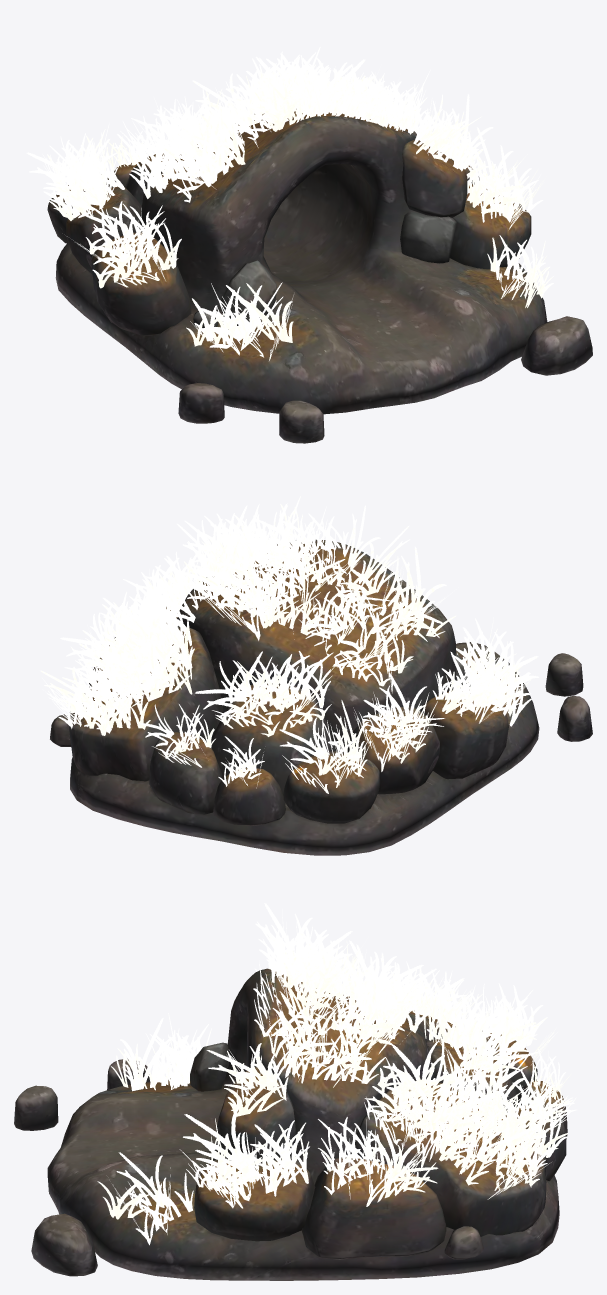
The picture shows the model from 3 angles, top to bottom: view 1: azimuth 30°, elevation 25°; view 2: azimuth 150°, elevation 25°; view 3: azimuth 270°, elevation 25°; orthographic projection. The views are drawn at different scales.
Parts seen in each view (by area): view 1: SM_Kebbit_Burrow_01v1_LOD0; view 2: SM_Kebbit_Burrow_01v1_LOD0; view 3: SM_Kebbit_Burrow_01v1_LOD0.
Part boxes in pixels (<box>): SM_Kebbit_Burrow_01v1_LOD0: <box>26,47,592,443</box>; SM_Kebbit_Burrow_01v1_LOD0: <box>40,496,592,855</box>; SM_Kebbit_Burrow_01v1_LOD0: <box>14,903,576,1280</box>.
Size of the model in its own units: 1.67 by 0.9041 by 1.74.
2 materials, 2 textured.
